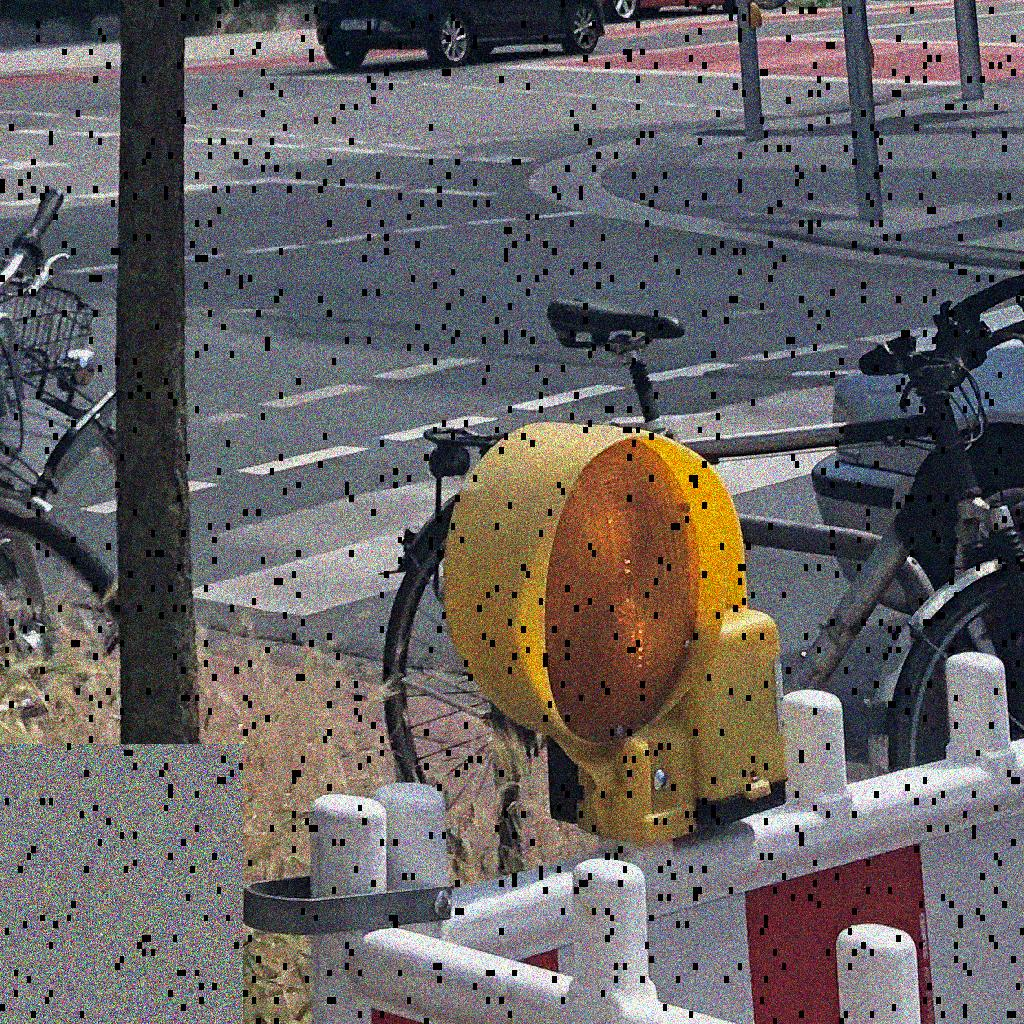tree: (116, 1, 203, 743)
